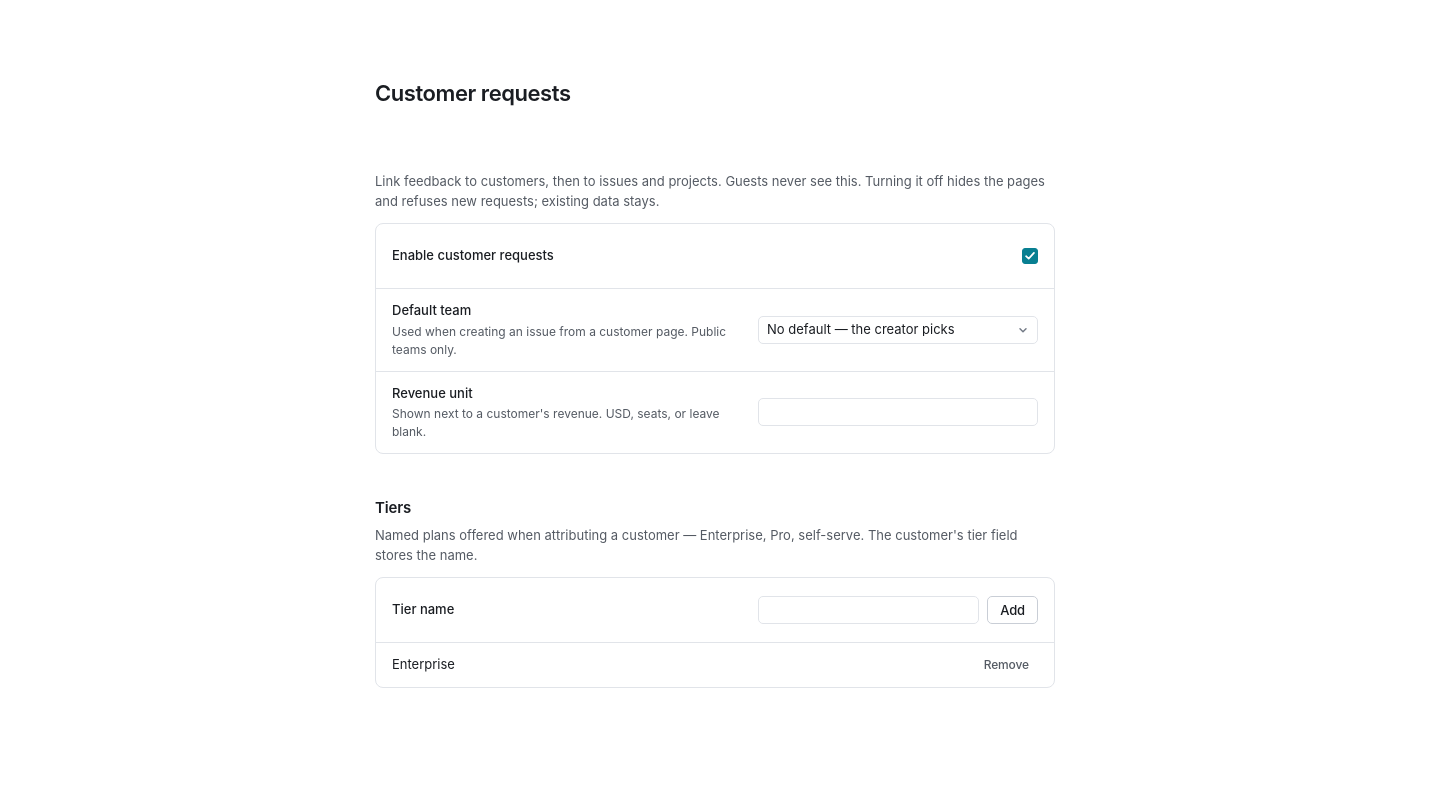
Scenario: Customer request settings — tiers and the revenue unit › keeps the dialog open and shows the refusal inside it
Click the button with aria-label "Remove Enterprise" at (1006, 665), box [975, 654, 1038, 676]
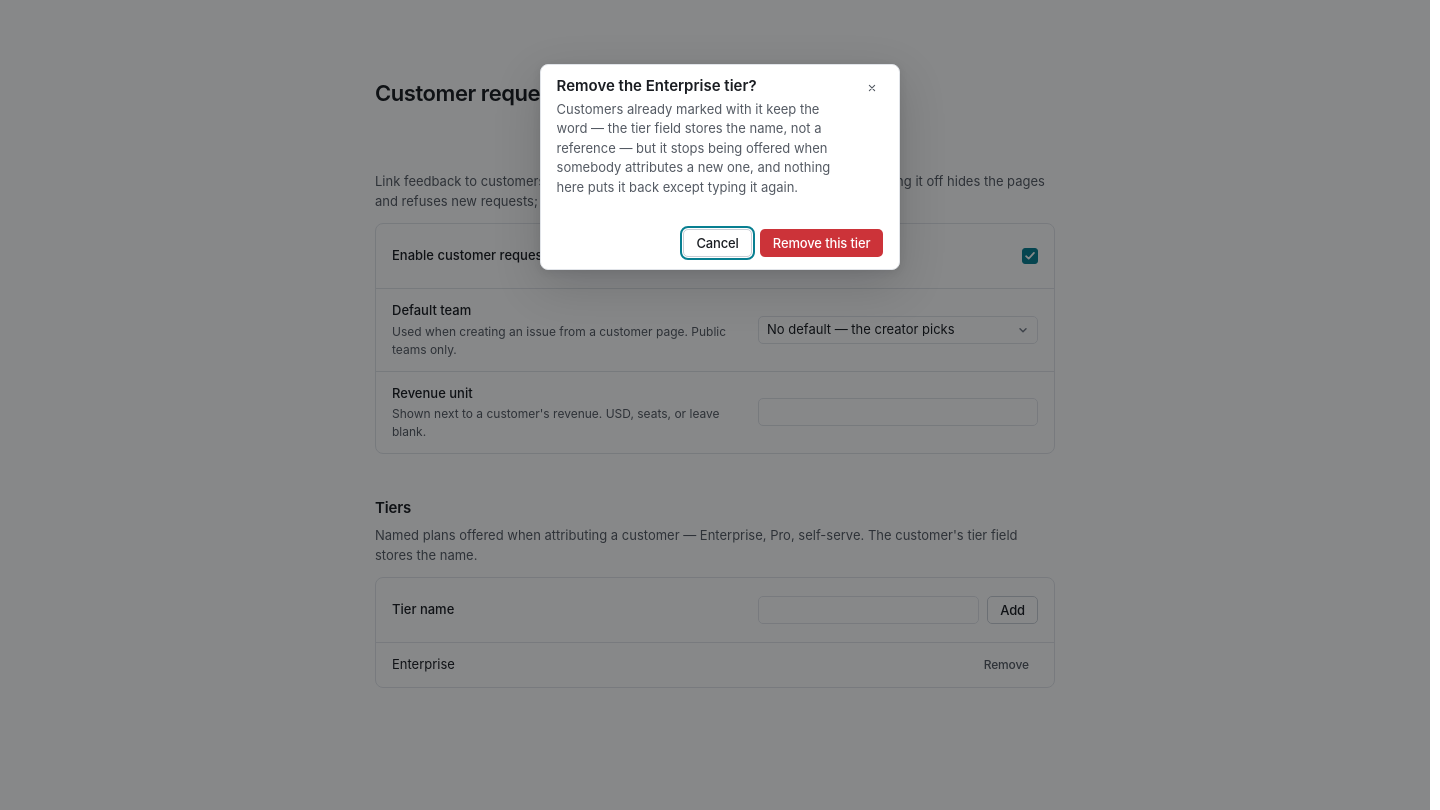
Click the button "Remove this tier" at (822, 243), box [760, 229, 884, 257]
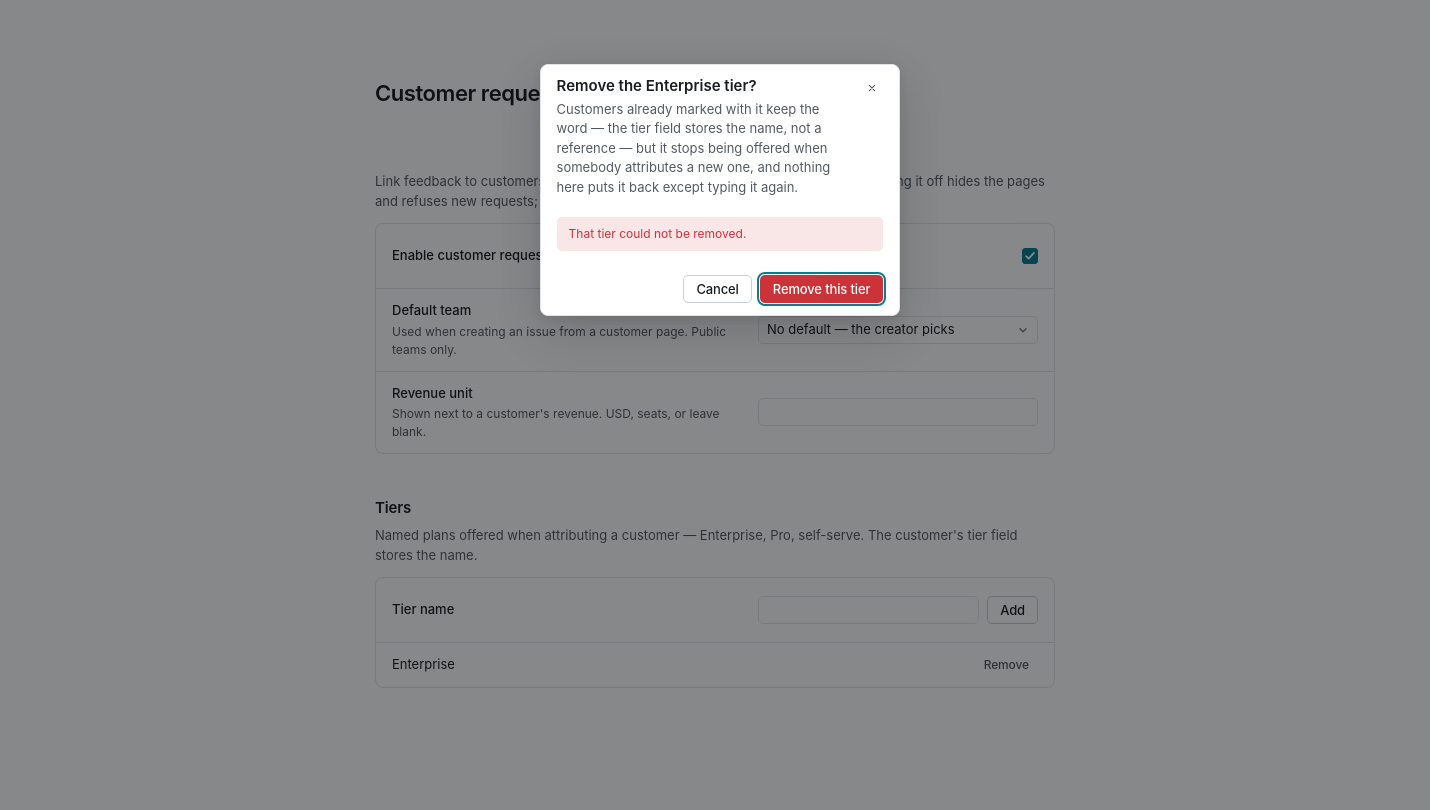
Now the dialog shows "That tier could not be removed.", box [569, 226, 746, 241]
